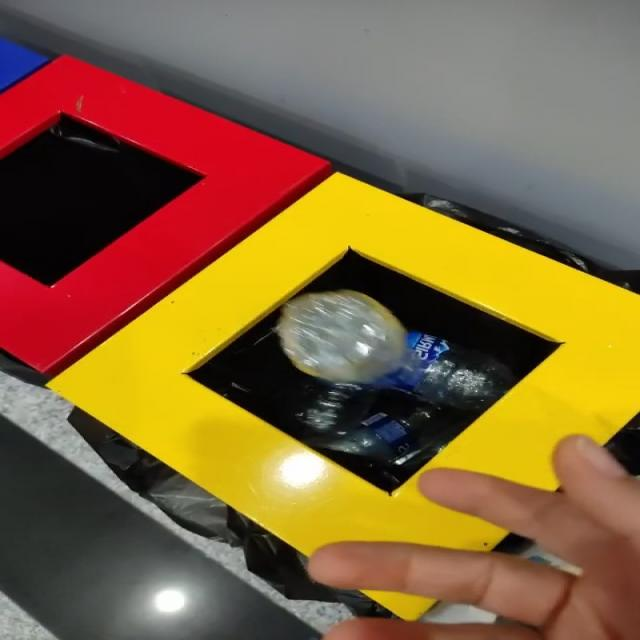plastic: (375, 332, 512, 399), (276, 293, 364, 382)
